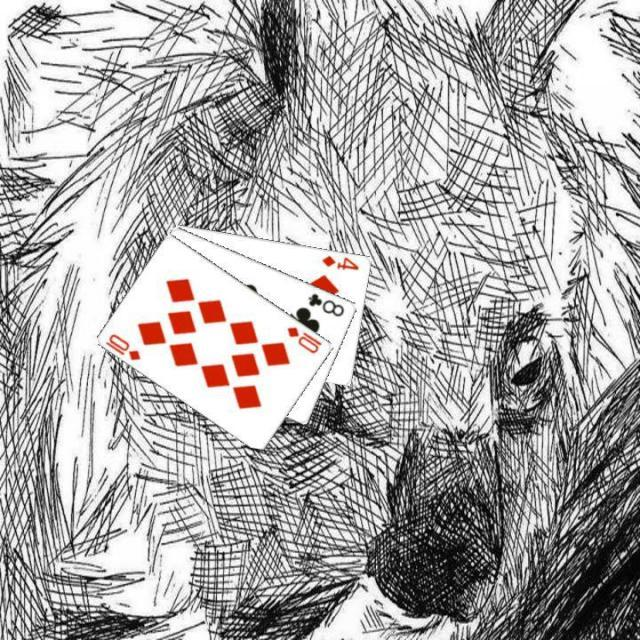10D: (284, 322, 324, 356), (101, 330, 143, 362)
4D: (318, 251, 361, 271)
8C: (304, 288, 347, 318)
